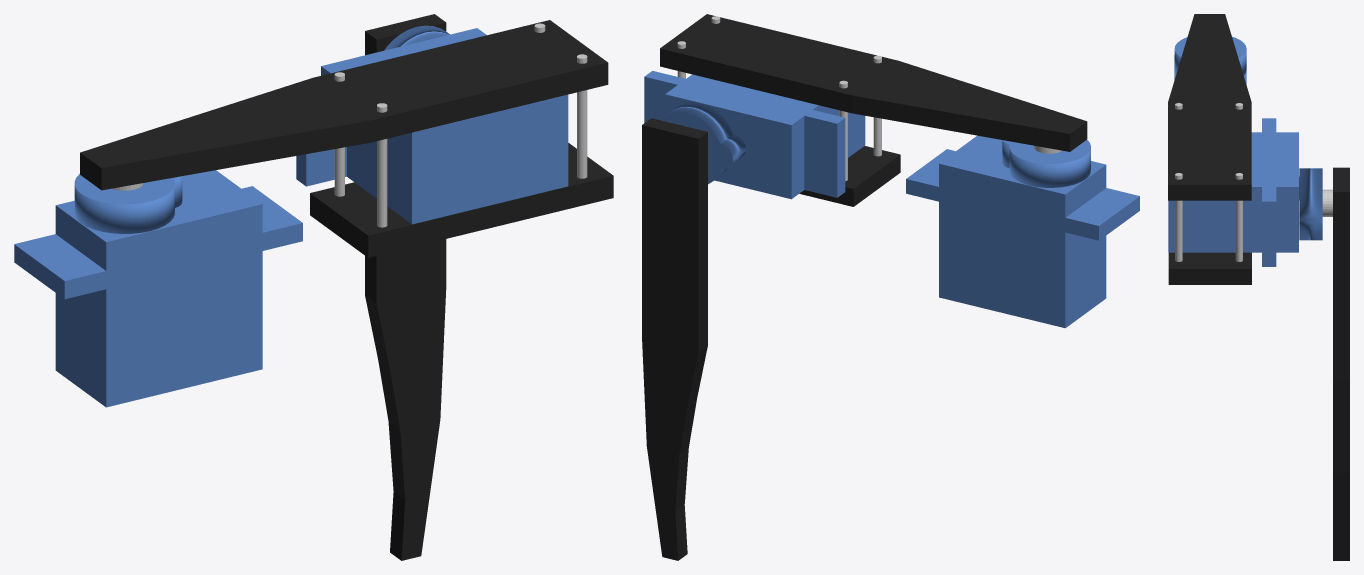
The model's file is hexapod.dae.
3 views of the same model, side by side, from view 1: azimuth 30°, elevation 25°; view 2: azimuth 150°, elevation 25°; view 3: azimuth 270°, elevation 25° (orthographic). The views are drawn at different scales.
Visible parts, largest first — view 1: VertServo, HorizServo, Leg; view 2: VertServo, HorizServo, Leg; view 3: VertServo, Leg, HorizServo.
Part boxes in pixels (x1,y1,x2,y2): VertServo: [80, 20, 613, 257]; HorizServo: [14, 170, 302, 407]; Leg: [365, 14, 446, 560]; VertServo: [644, 14, 1087, 206]; HorizServo: [906, 135, 1139, 328]; Leg: [642, 118, 707, 560]; VertServo: [1168, 14, 1332, 284]; Leg: [1333, 167, 1349, 560]; HorizServo: [1174, 36, 1246, 84].
Size of the model in its own units: 7.81 by 3.15 by 7.74.
